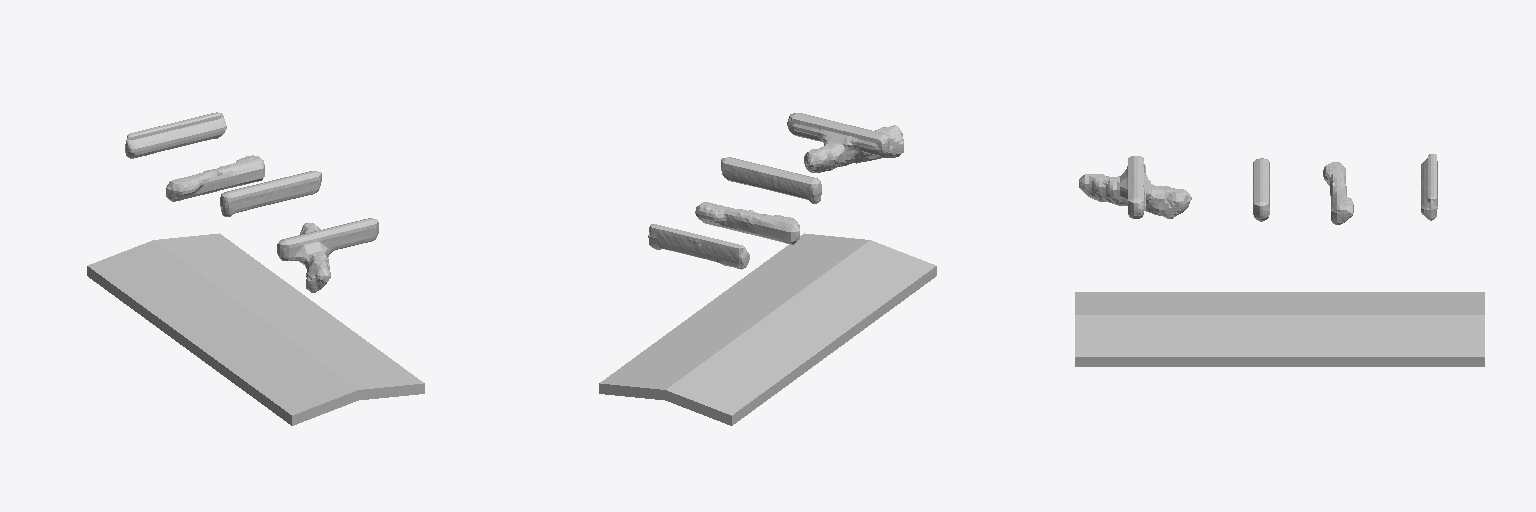
The model's file is Watersim_000006.obj.
The picture shows the model from 3 angles: view 1: azimuth 30°, elevation 25°; view 2: azimuth 150°, elevation 25°; view 3: azimuth 270°, elevation 25°; orthographic projection.
Parts seen in each view (by area): view 1: Straße_Cube.007, Domain_Cube.006; view 2: Straße_Cube.007, Domain_Cube.006; view 3: Straße_Cube.007, Domain_Cube.006.
Part boxes in pixels (bbox=[...]): Straße_Cube.007: bbox=[87, 233, 424, 425]; Domain_Cube.006: bbox=[125, 112, 378, 292]; Straße_Cube.007: bbox=[599, 233, 936, 425]; Domain_Cube.006: bbox=[648, 113, 903, 269]; Straße_Cube.007: bbox=[1075, 292, 1484, 366]; Domain_Cube.006: bbox=[1079, 154, 1437, 224].
Size of the model in its own units: 2.26 by 2.58 by 6.06.